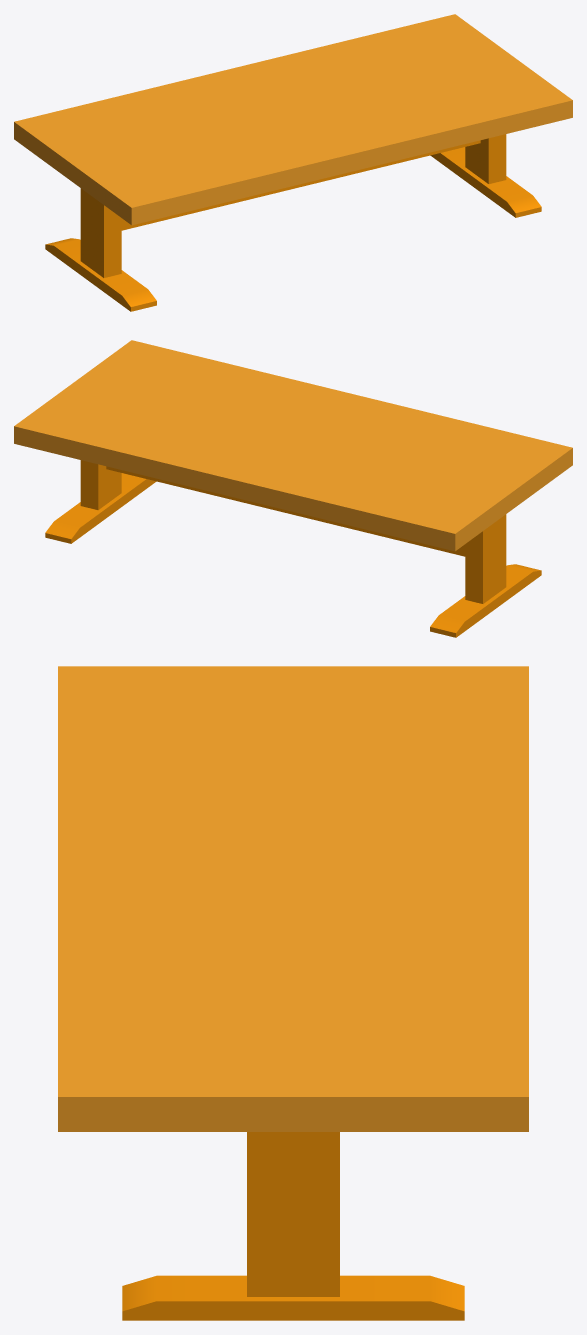
Rendered from Big_Table_lv1.fbx.
3 views of the same model, one above another, from view 1: azimuth 30°, elevation 25°; view 2: azimuth 150°, elevation 25°; view 3: azimuth 270°, elevation 25° (orthographic). The views are drawn at different scales.
Visible parts, largest first — view 1: Big_Table_lv1; view 2: Big_Table_lv1; view 3: Big_Table_lv1.
Boxes of the visible parts, bbox=[...] form: Big_Table_lv1: bbox=[14, 14, 572, 311]; Big_Table_lv1: bbox=[14, 340, 572, 637]; Big_Table_lv1: bbox=[58, 666, 528, 1320].
Size of the model in its own units: 440 by 114 by 203.
